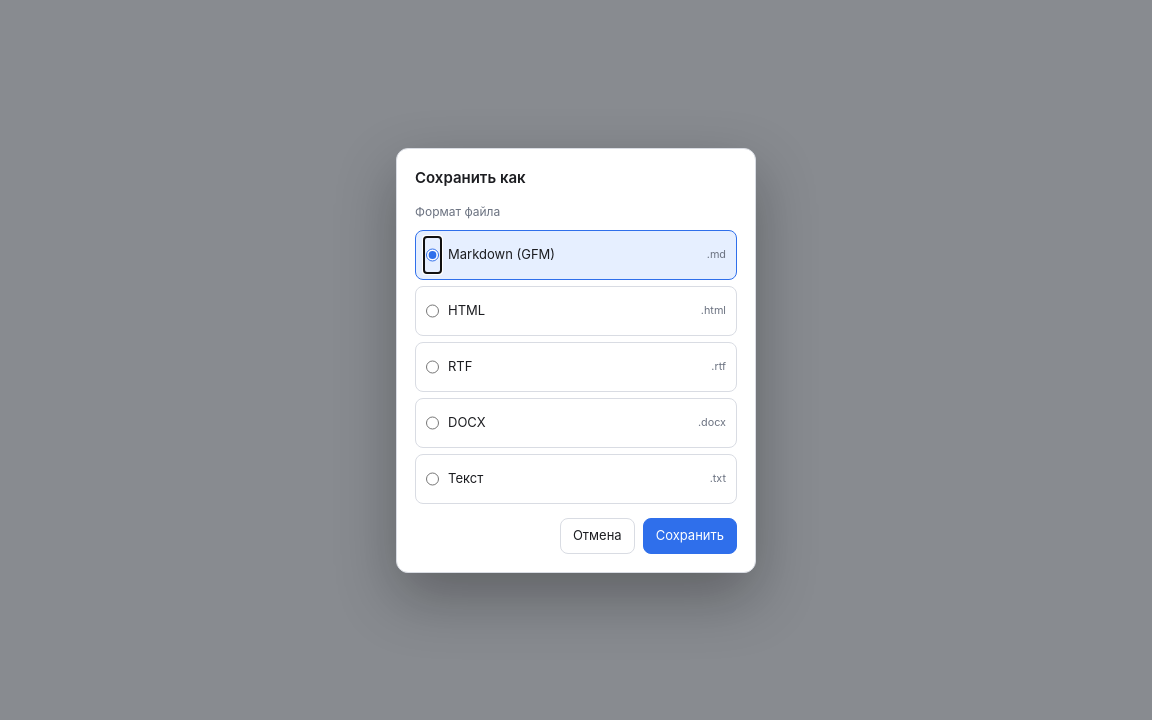
SaveFormatDialog › показывает предупреждение для TXT
Click the radio button labelled "Текст .txt" at (432, 479), box [426,463,439,495]
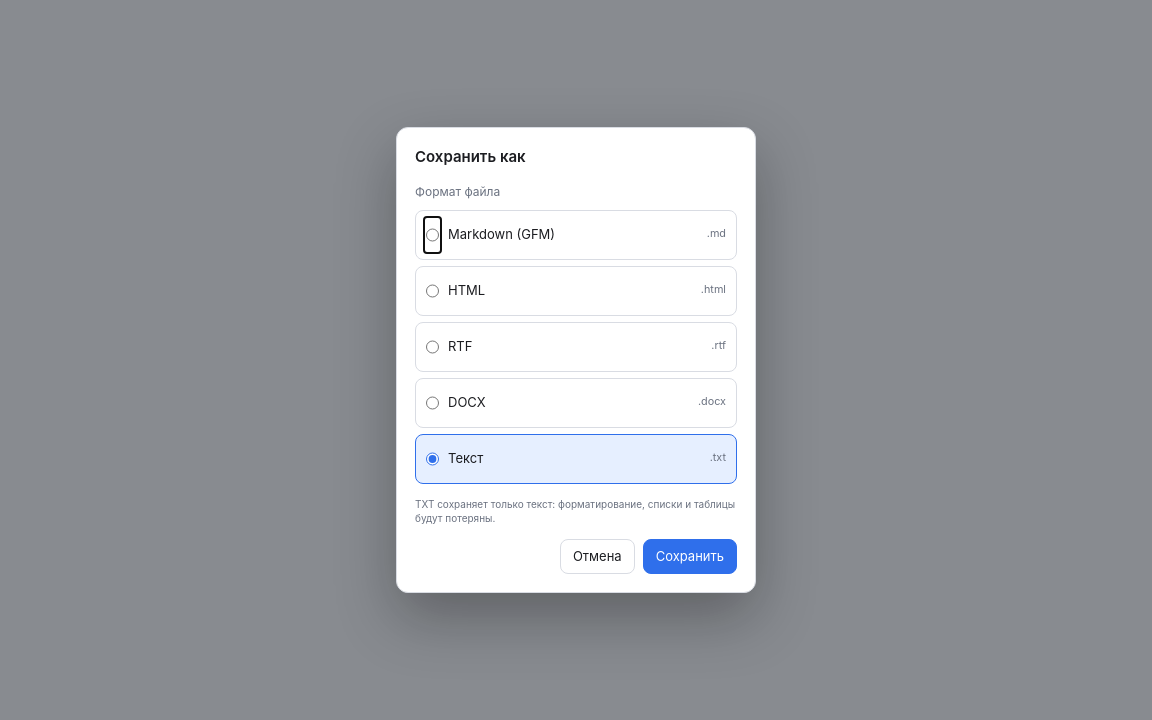
expect the text "TXT сохраняет только текст" is shown: met, box [415,498,735,524]
